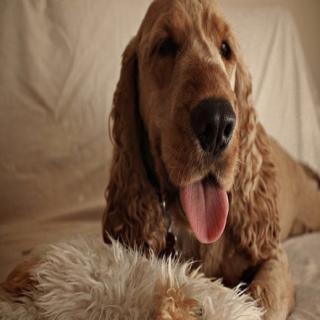dog: (112, 0, 258, 252)
nose: (188, 91, 240, 160)
